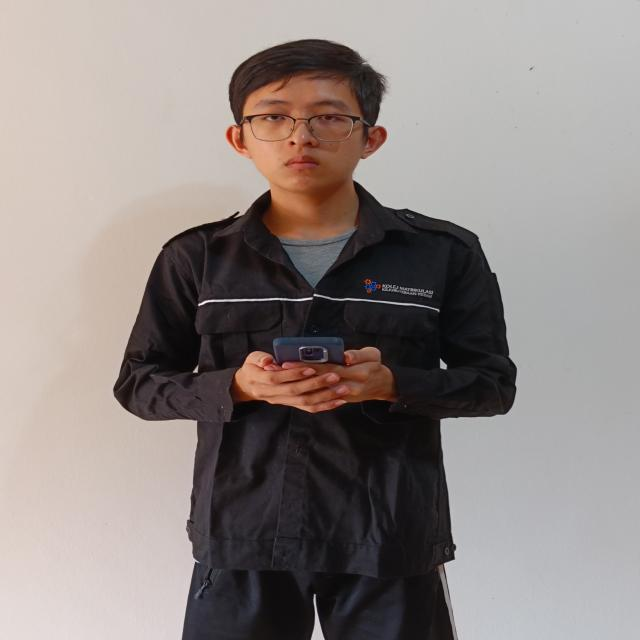person_with_labcoat: (114, 40, 515, 640)
